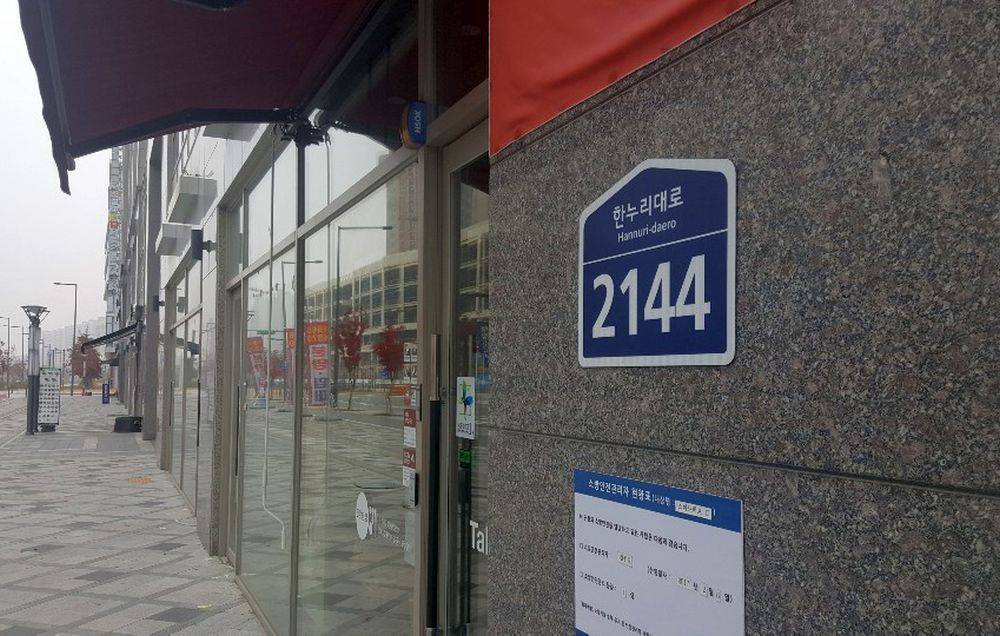building_license_plate1: (578, 155, 737, 366)
